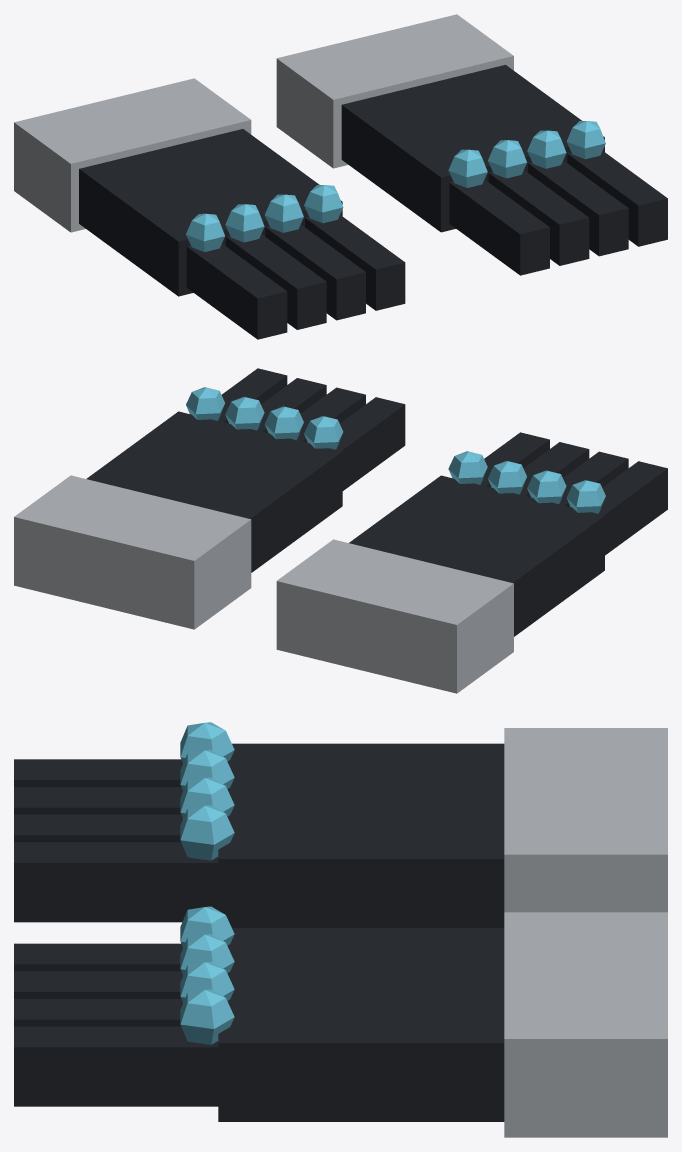
Rendered from shock-gloves.glb.
3 views of the same model, one above another, from view 1: azimuth 30°, elevation 25°; view 2: azimuth 150°, elevation 25°; view 3: azimuth 270°, elevation 25° (orthographic). The views are drawn at different scales.
Visible parts, largest first — view 1: m; view 2: m; view 3: m.
Part boxes in pixels (x1,y1,x2,y2): m: (14,14,667,339); m: (14,368,667,693); m: (14,722,667,1137).
Size of the model in its own units: 0.14 by 0.0264 by 0.1244.
